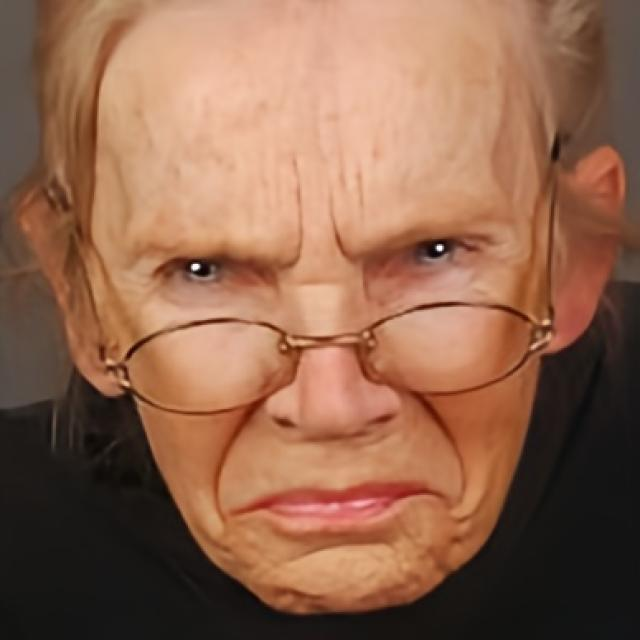disgust: (90, 0, 547, 612)
